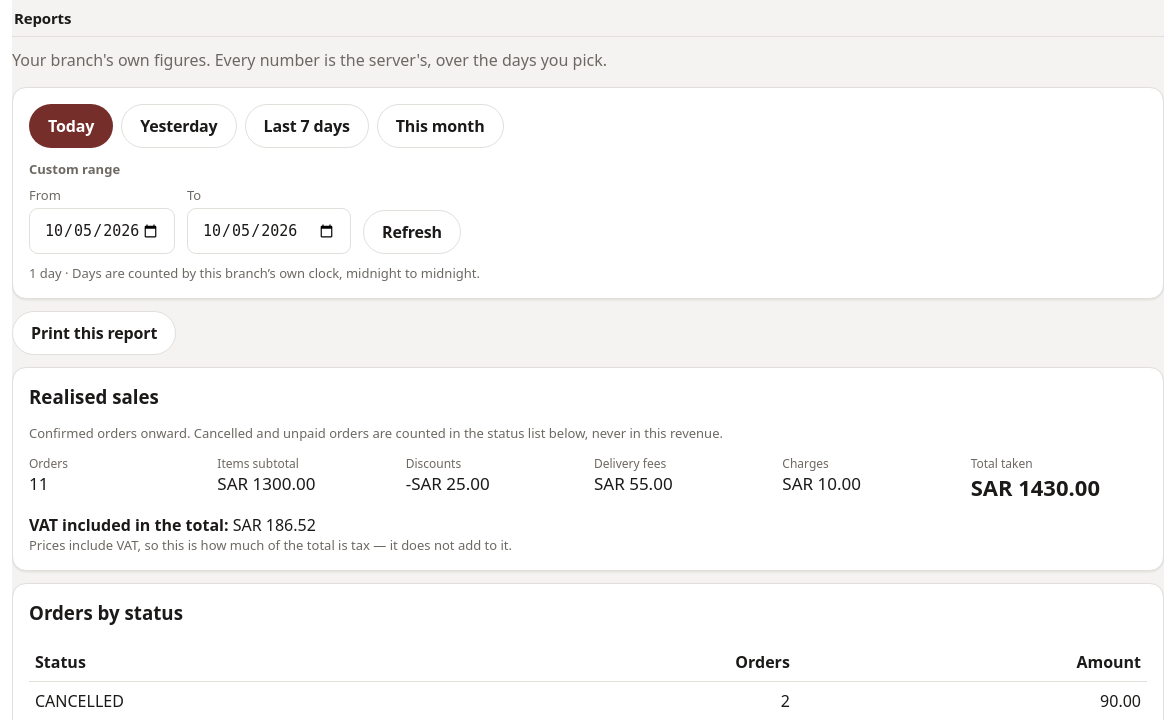
Test case: ReportsScreen › prints the sheet through the printing code, and logs it as a report
What coordinates should you click on to do the following:
click the button "Print this report"
I would click on:
 (94, 333)
Its box is [12,311,176,355].
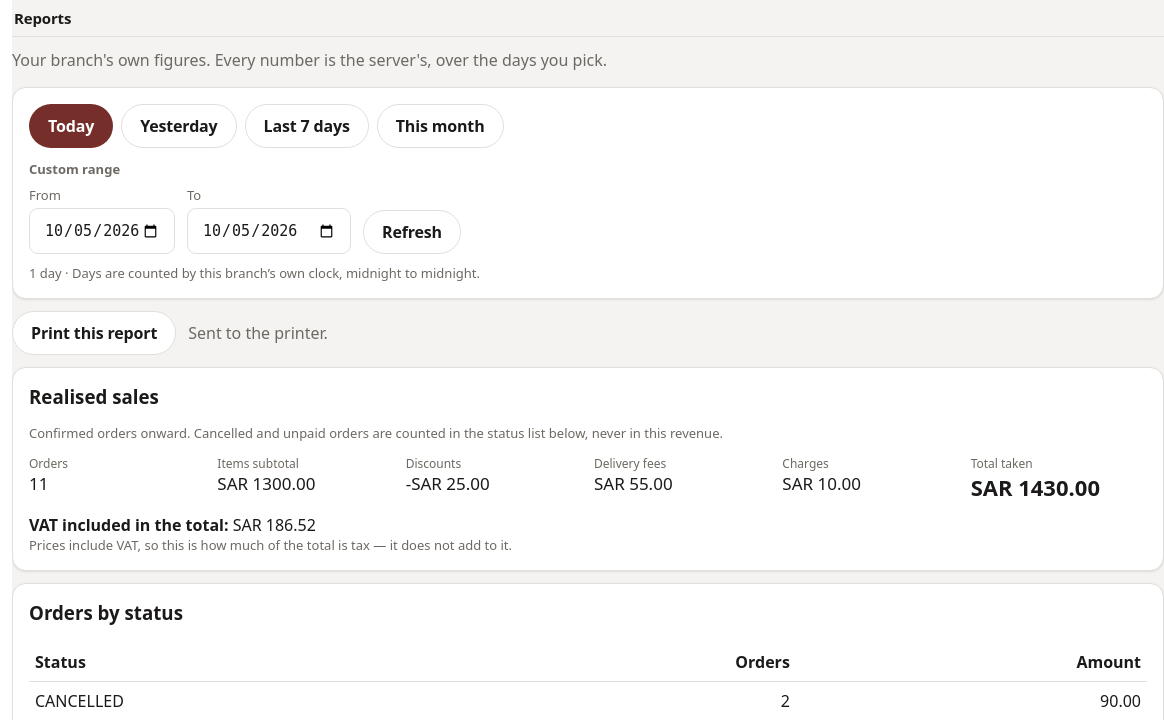
Expected: the text "Sent to the printer." is shown, [188,322,328,344]
